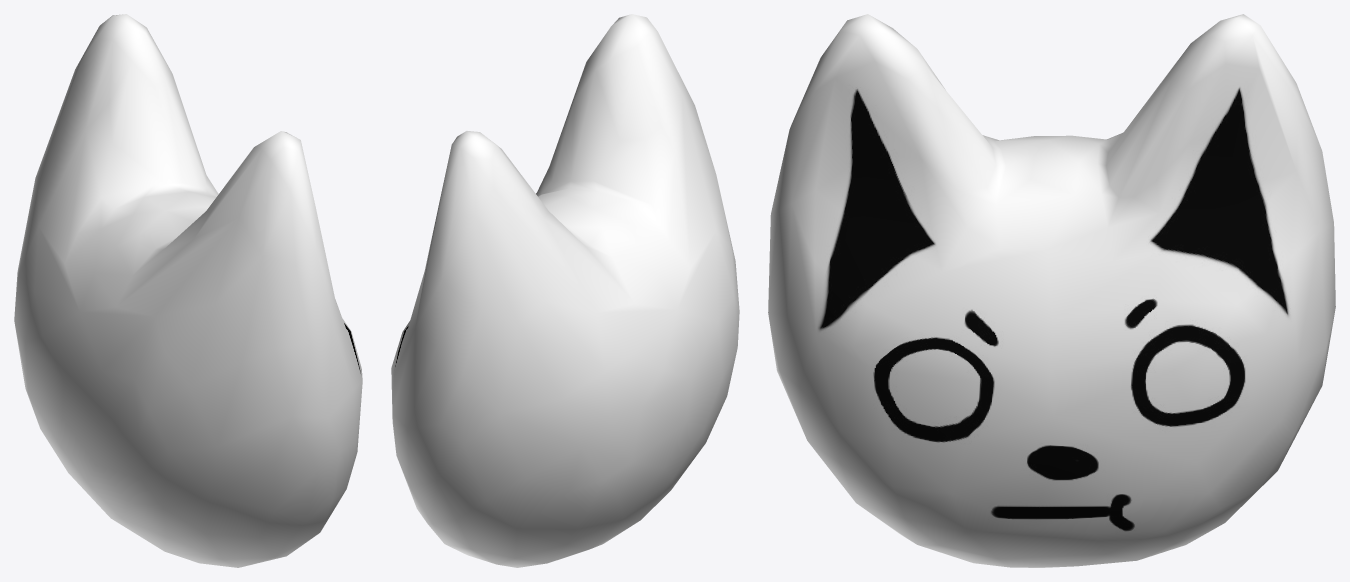
The model's file is fin.gltf.
3 renders of one model, left to right at view 1: azimuth 30°, elevation 25°; view 2: azimuth 150°, elevation 25°; view 3: azimuth 270°, elevation 25°, orthographic. The views are drawn at different scales.
Parts seen in each view (by area): view 1: Quad Sphere; view 2: Quad Sphere; view 3: Quad Sphere.
Part boxes in pixels (x1,y1,x2,y2): Quad Sphere: [14, 14, 362, 567]; Quad Sphere: [391, 14, 739, 567]; Quad Sphere: [768, 14, 1335, 567].
Bounding box in the file's own units: 1.58 × 2.92 × 2.76.
1 material, 1 textured.
